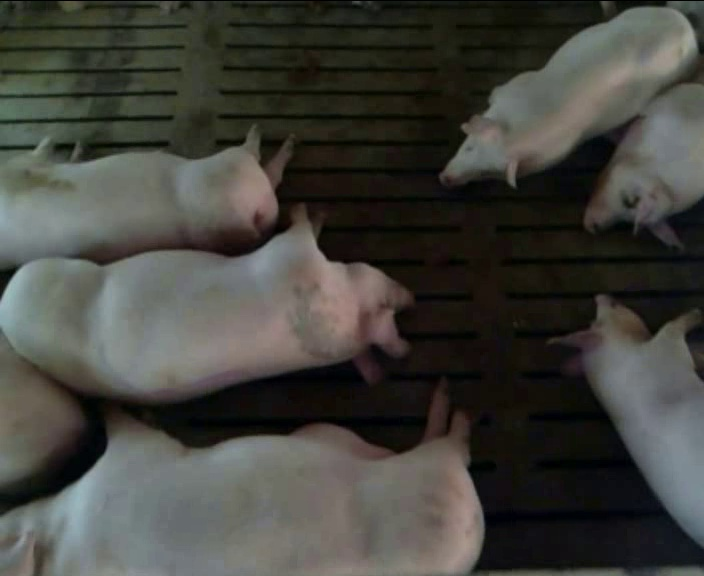pig: (0, 386, 483, 573), (0, 205, 412, 402), (440, 7, 696, 186), (0, 125, 292, 267), (551, 295, 703, 546), (584, 84, 703, 246)
